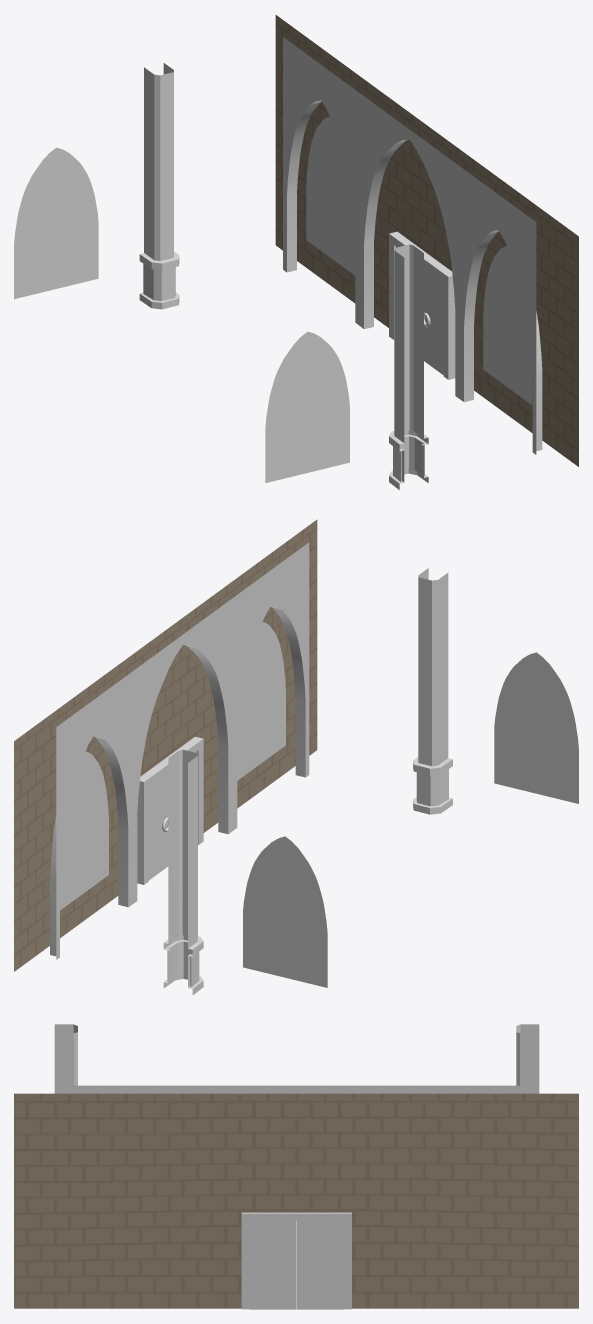
Rendered from Church door wall.fbx.
3 views of the same model, one above another, from view 1: azimuth 30°, elevation 25°; view 2: azimuth 150°, elevation 25°; view 3: azimuth 270°, elevation 25° (orthographic). The views are drawn at different scales.
Visible parts, largest first — view 1: Church_Glass, Church_WallB, Church_Arcs, Church_Pillars, Church_Door, Cube.001; view 2: Church_Glass, Church_WallB, Church_Arcs, Church_Pillars, Church_Door, Cube; view 3: Church_WallB, Church_Arcs, Cube.001, Cube, Church_Pillars, Church_Door.
Part boxes in pixels (x1,y1,x2,y2): Church_Glass: (14, 117, 532, 483); Church_WallB: (275, 15, 578, 466); Church_Arcs: (283, 37, 542, 454); Church_Pillars: (139, 63, 428, 489); Church_Door: (389, 231, 455, 379); Cube.001: (424, 267, 443, 374); Church_Glass: (60, 622, 578, 987); Church_WallB: (14, 519, 317, 971); Church_Arcs: (50, 542, 309, 959); Church_Pillars: (163, 568, 452, 995); Church_Door: (137, 736, 203, 884); Cube: (149, 773, 168, 879); Church_WallB: (14, 1093, 578, 1308); Church_Arcs: (61, 1085, 532, 1093); Cube.001: (250, 1221, 296, 1309); Cube: (297, 1221, 343, 1309); Church_Pillars: (54, 1024, 539, 1093); Church_Door: (241, 1212, 351, 1309).
Bounding box in the file's own units: 660 × 508 × 1199.
